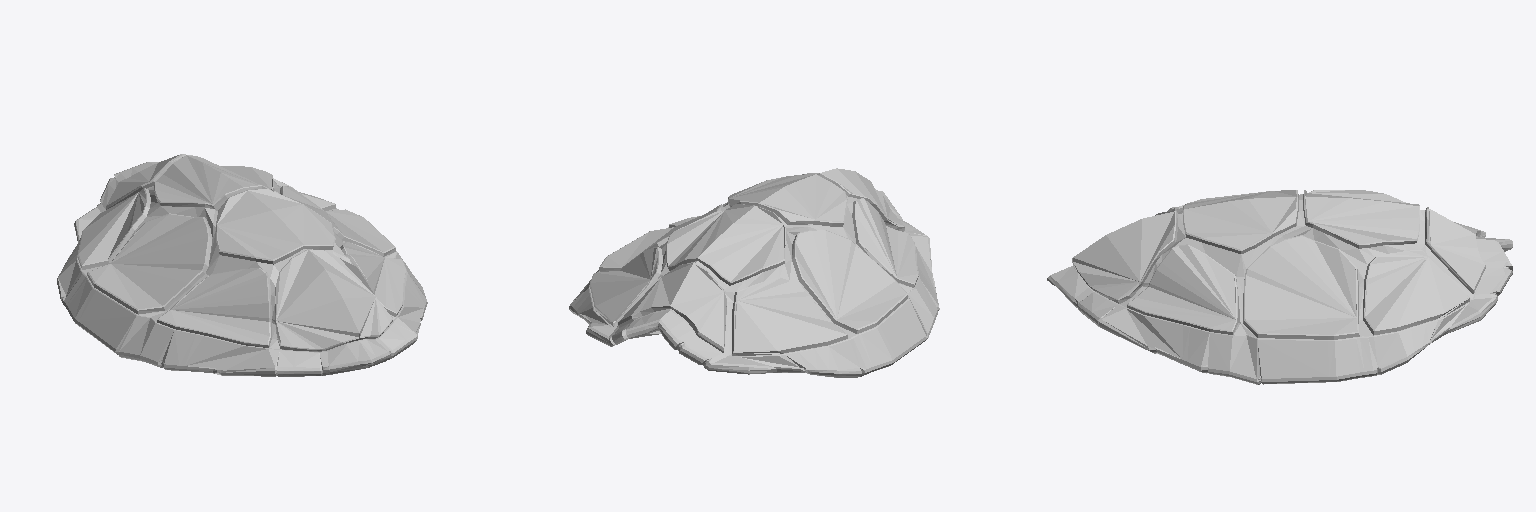
The model's file is TurtleShell.obj.
3 views of the same model, side by side, from view 1: azimuth 30°, elevation 25°; view 2: azimuth 150°, elevation 25°; view 3: azimuth 270°, elevation 25° (orthographic).
Parts seen in each view (by area): view 1: pCube5; view 2: pCube5; view 3: pCube5.
Boxes of the visible parts, x1=… form: pCube5: x1=57, y1=154, x2=427, y2=376; pCube5: x1=569, y1=168, x2=939, y2=377; pCube5: x1=1047, y1=190, x2=1512, y2=384.
Size of the model in its own units: 14.81 by 5.48 by 19.5.